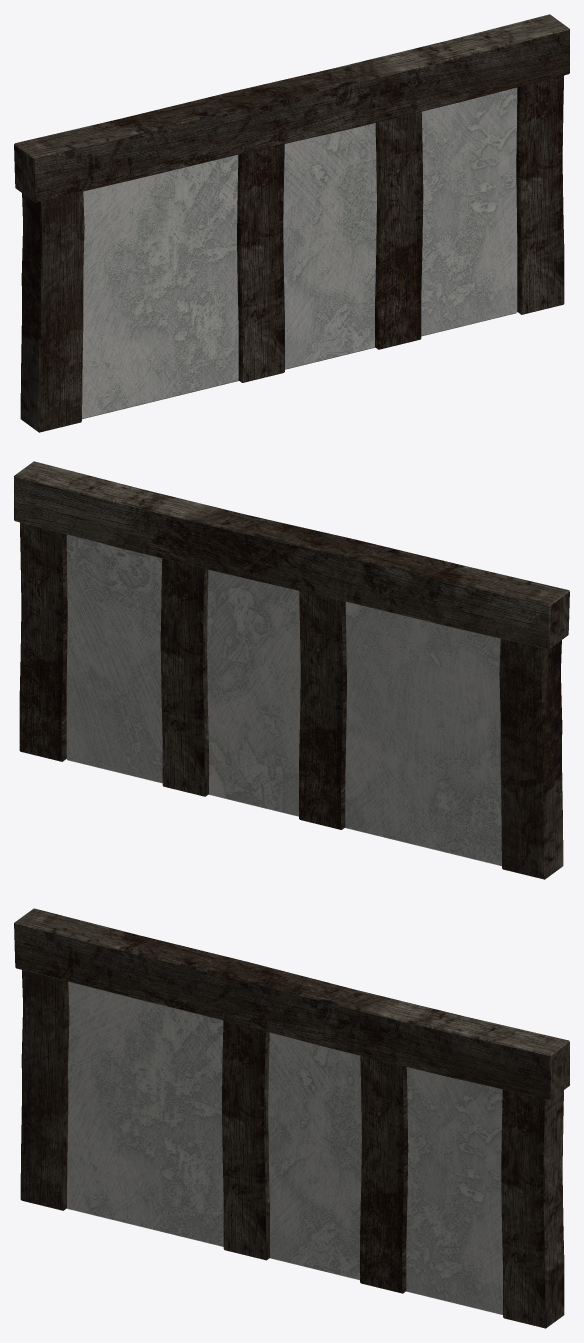
The model's file is TudorWall8.fbx.
3 renders of one model, top to bottom at view 1: azimuth 30°, elevation 25°; view 2: azimuth 150°, elevation 25°; view 3: azimuth 330°, elevation 25°, orthographic.
Visible parts, largest first — view 1: White Wall Straight 4m; view 2: White Wall Straight 4m; view 3: White Wall Straight 4m.
Boxes of the visible parts, box(x1,y1,x2,y2) form: White Wall Straight 4m: box(14, 14, 569, 432); White Wall Straight 4m: box(14, 461, 569, 879); White Wall Straight 4m: box(14, 908, 569, 1328).
Size of the model in its own units: 489 by 241 by 31.84.
